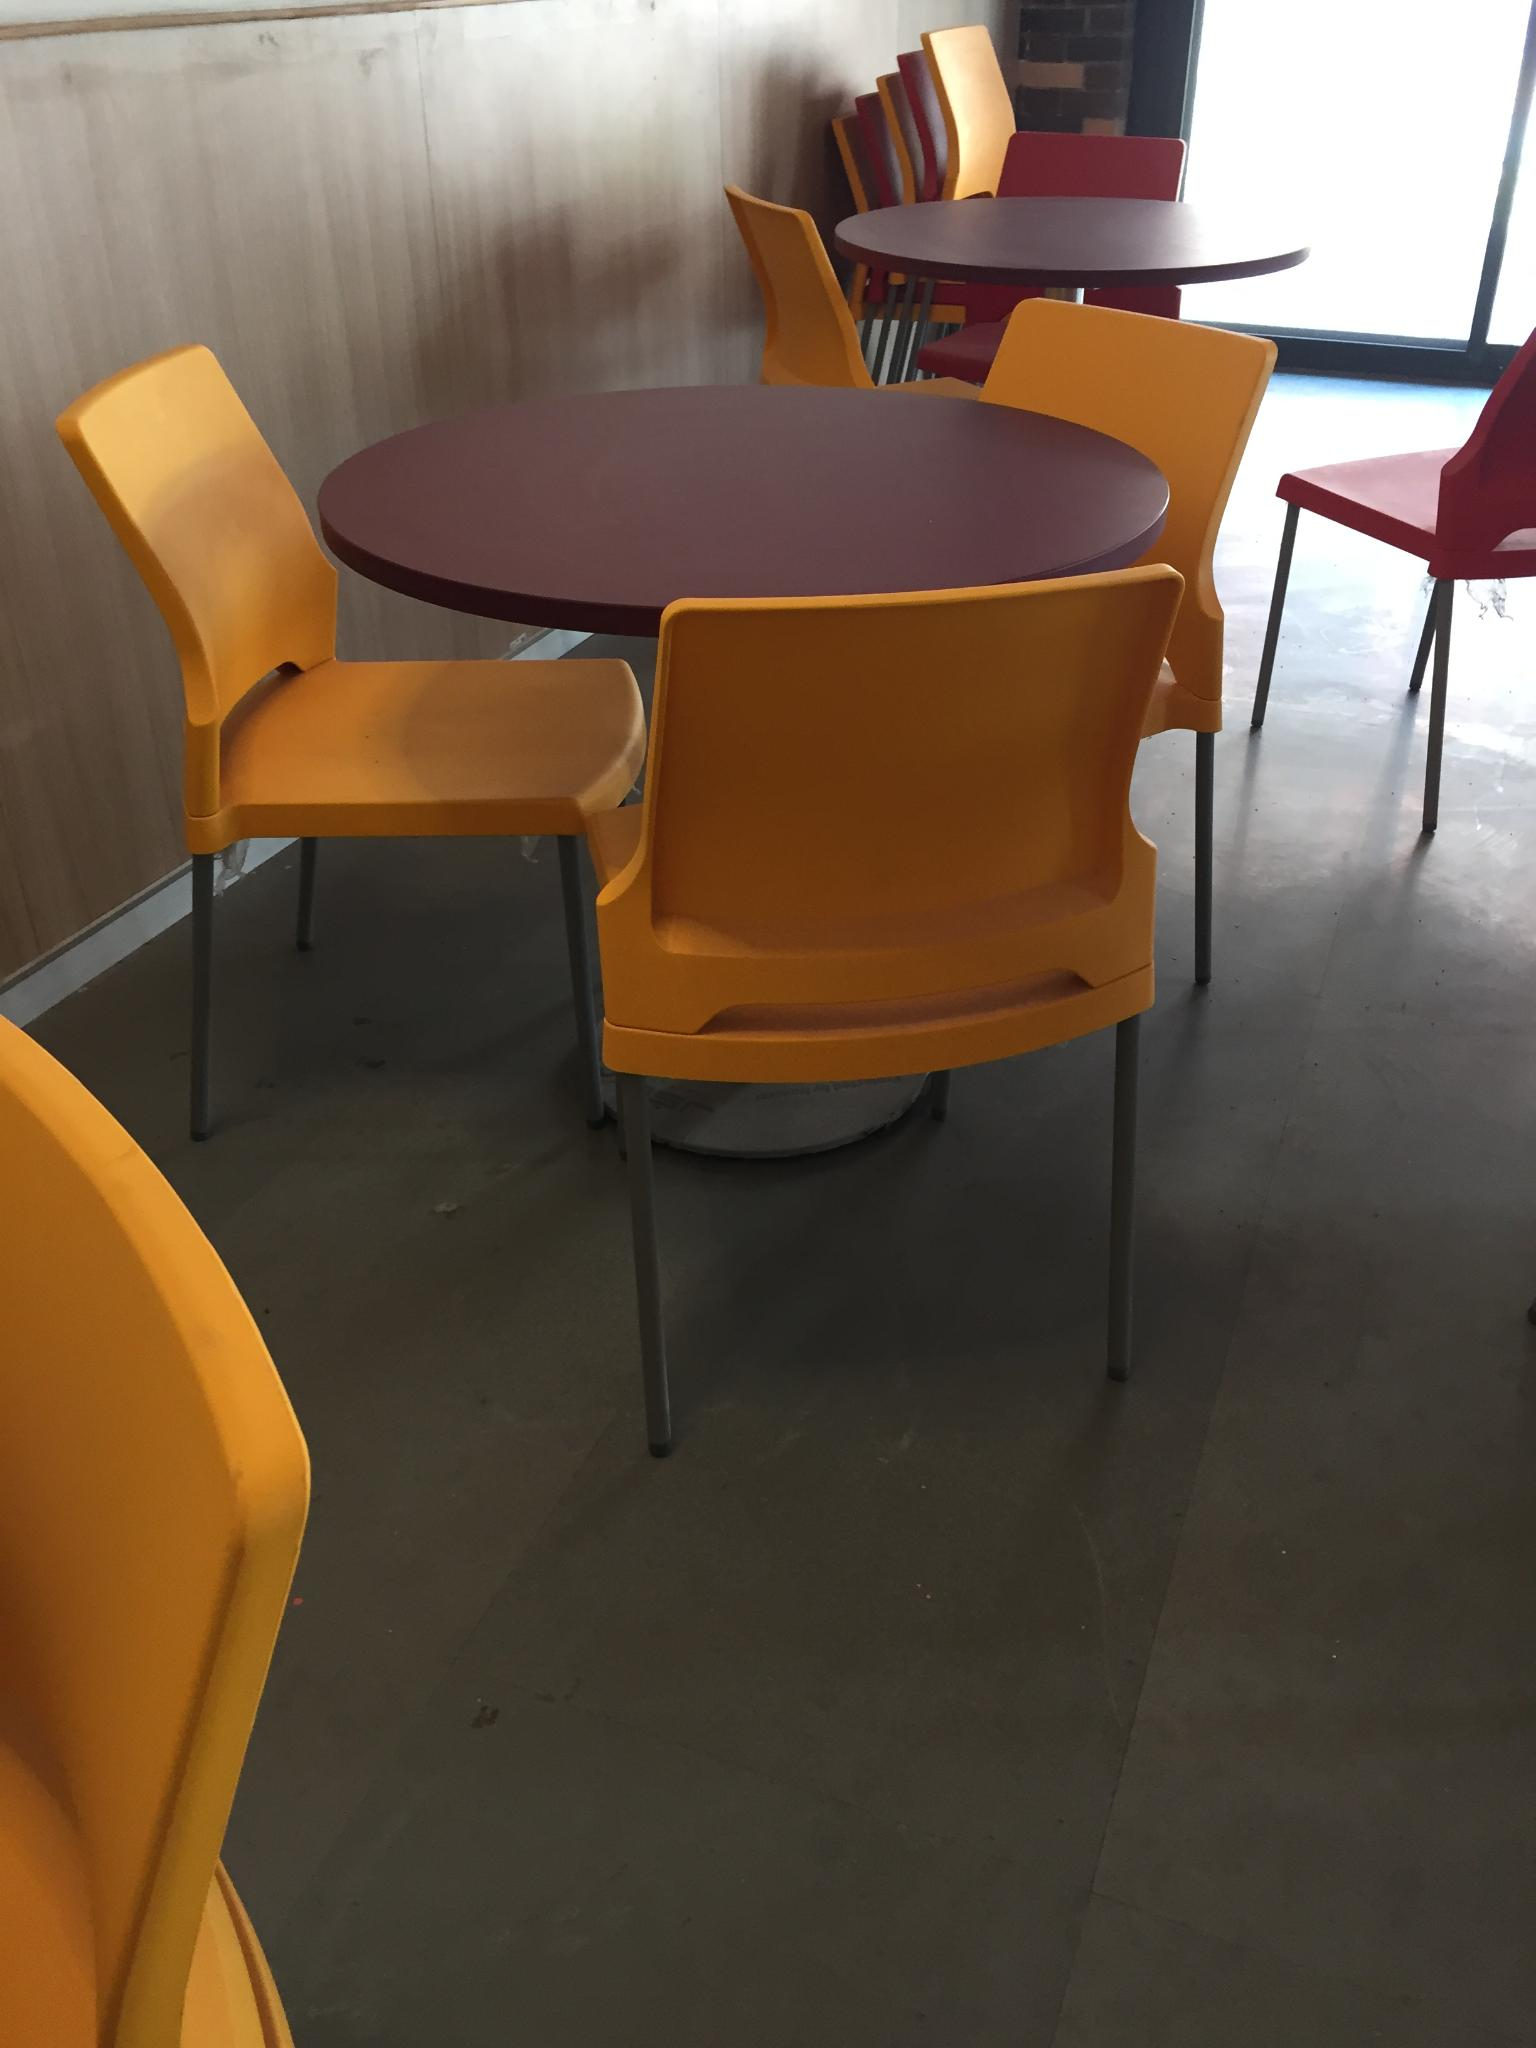chair: (591, 560, 1184, 1456), (53, 342, 649, 1142), (0, 1011, 311, 2045), (976, 295, 1278, 985), (768, 8, 1236, 329), (1249, 326, 1534, 834), (721, 182, 983, 395)
